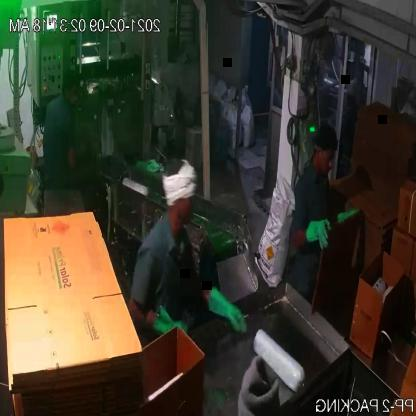glove: (204, 281, 250, 339), (144, 307, 196, 357), (300, 211, 336, 259)
